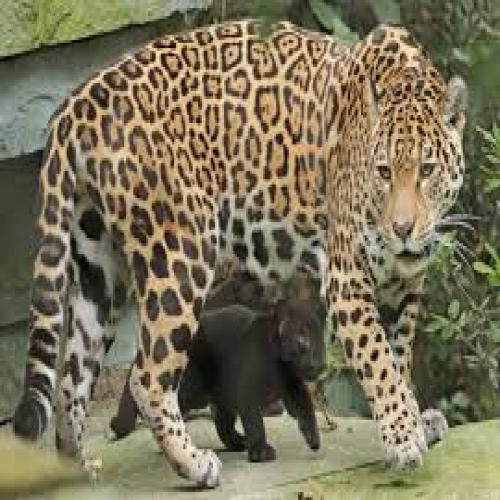jaguar_not-endangered: (16, 20, 466, 487)
